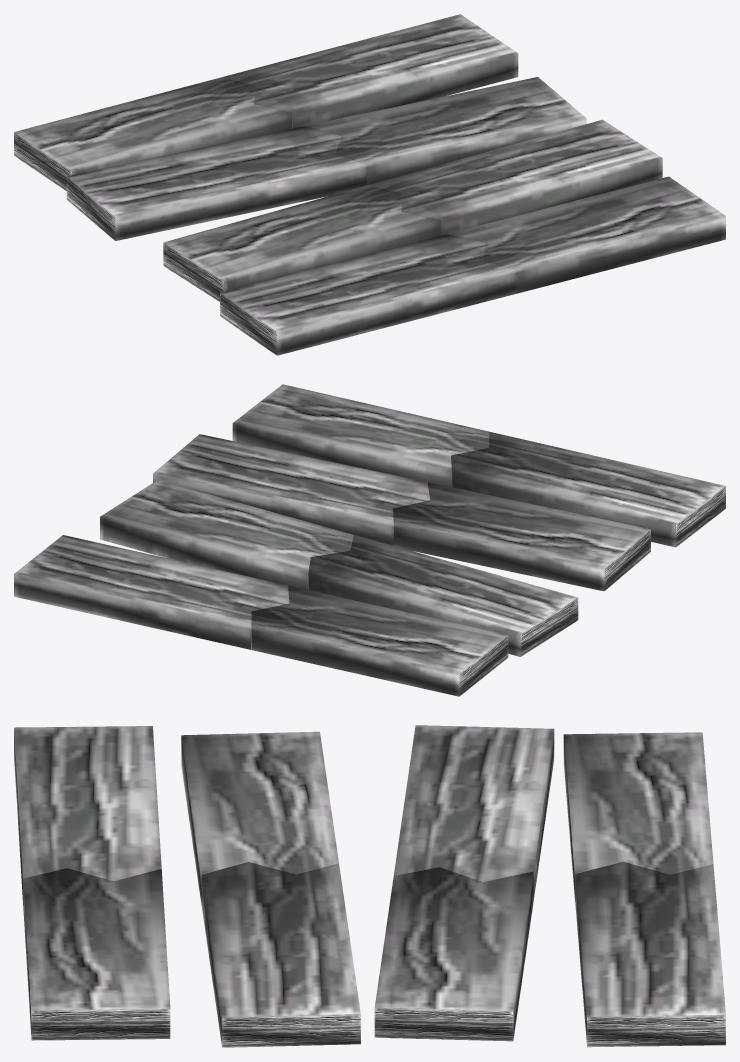
The model's file is INST_SWORDLIGHT_WALLPLAT-BREAKBOARD.fbx.
The picture shows the model from 3 angles, top to bottom: view 1: azimuth 30°, elevation 25°; view 2: azimuth 150°, elevation 25°; view 3: azimuth 270°, elevation 25°; orthographic projection. The views are drawn at different scales.
Visible parts, largest first — view 1: INST_SWORDLIGHT_WALLPLAT-BREAKBOARD; view 2: INST_SWORDLIGHT_WALLPLAT-BREAKBOARD; view 3: INST_SWORDLIGHT_WALLPLAT-BREAKBOARD.
Part boxes in pixels (box(x1,y1,x2,y2)): INST_SWORDLIGHT_WALLPLAT-BREAKBOARD: box(14, 14, 725, 355); INST_SWORDLIGHT_WALLPLAT-BREAKBOARD: box(14, 384, 725, 696); INST_SWORDLIGHT_WALLPLAT-BREAKBOARD: box(14, 725, 725, 1047).
Size of the model in its own units: 18855 by 906 by 19398.
Materials: 1 (1 with a texture image).
